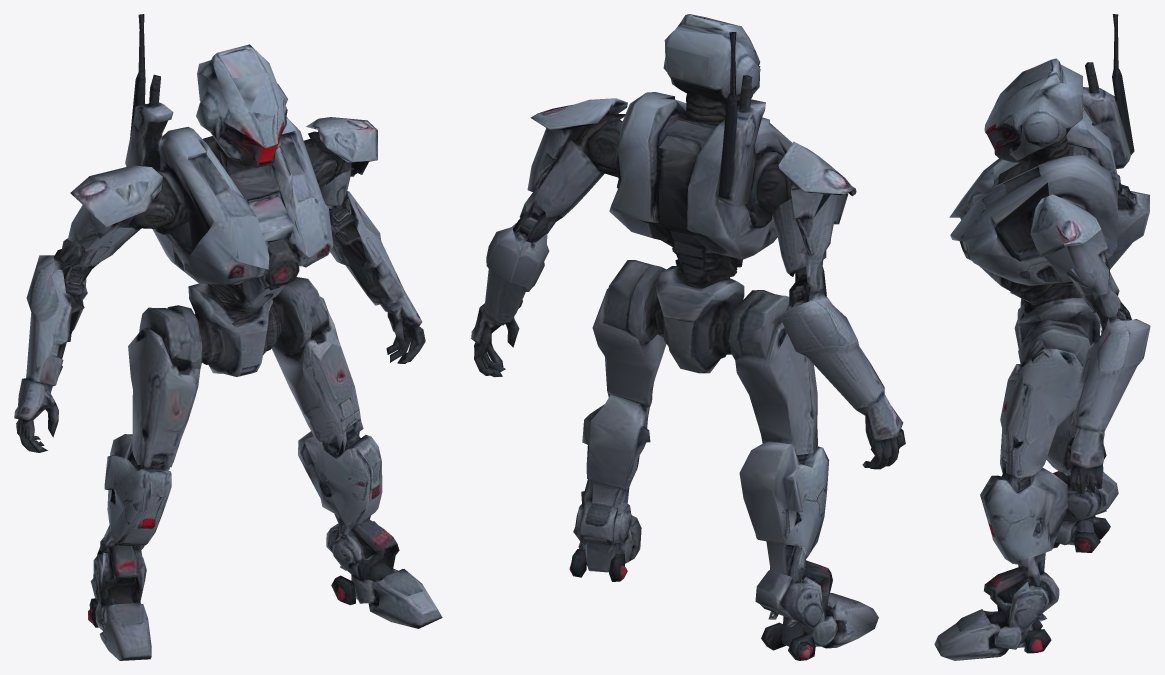
Rendered from t243_esc_lod0m.glb.
The picture shows the model from 3 angles, left to right: view 1: azimuth 30°, elevation 25°; view 2: azimuth 150°, elevation 25°; view 3: azimuth 270°, elevation 25°; orthographic projection. The views are drawn at different scales.
Size of the model in its own units: 1.36 by 1.9 by 0.6752.
1 material, 1 textured.
